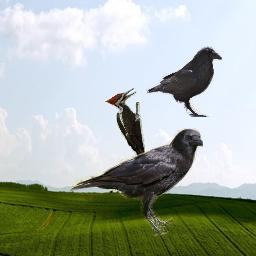Crow: (66, 128, 203, 236), (146, 46, 223, 117)
Woodpecker: (105, 88, 145, 161)
